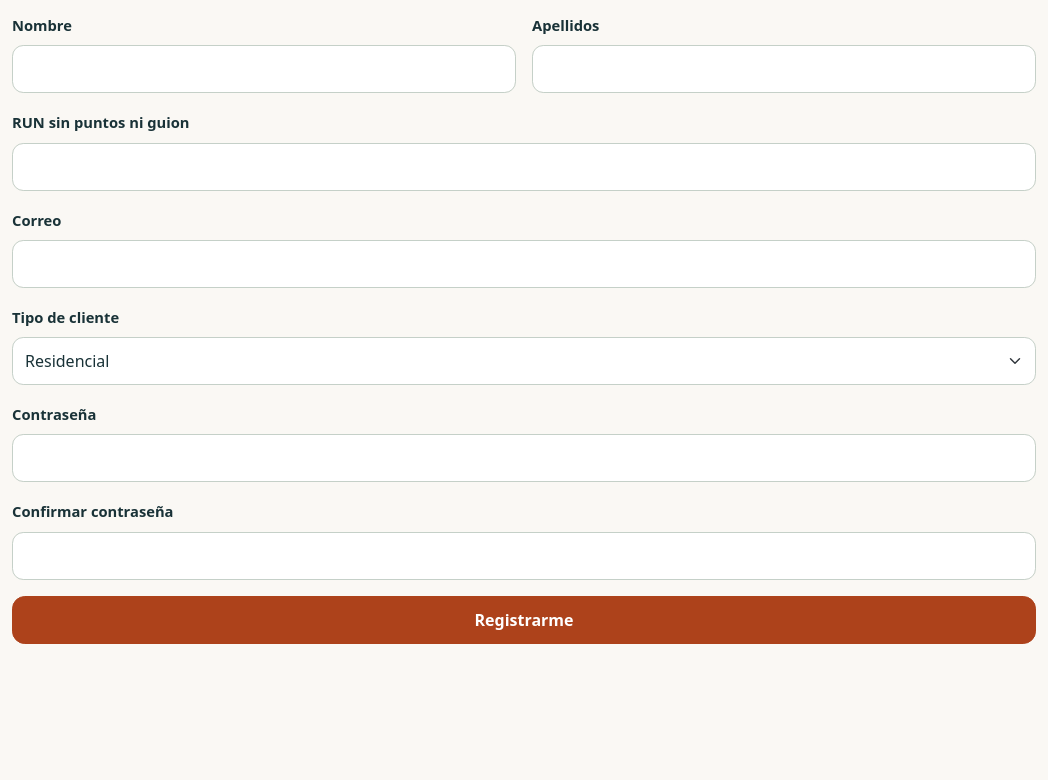
FormularioRegistro › explica todos los datos que deben corregirse y no avisa a la página
The image size is (1048, 780).
Click the button "Registrarme" at (524, 620), box [12,596,1036,644]
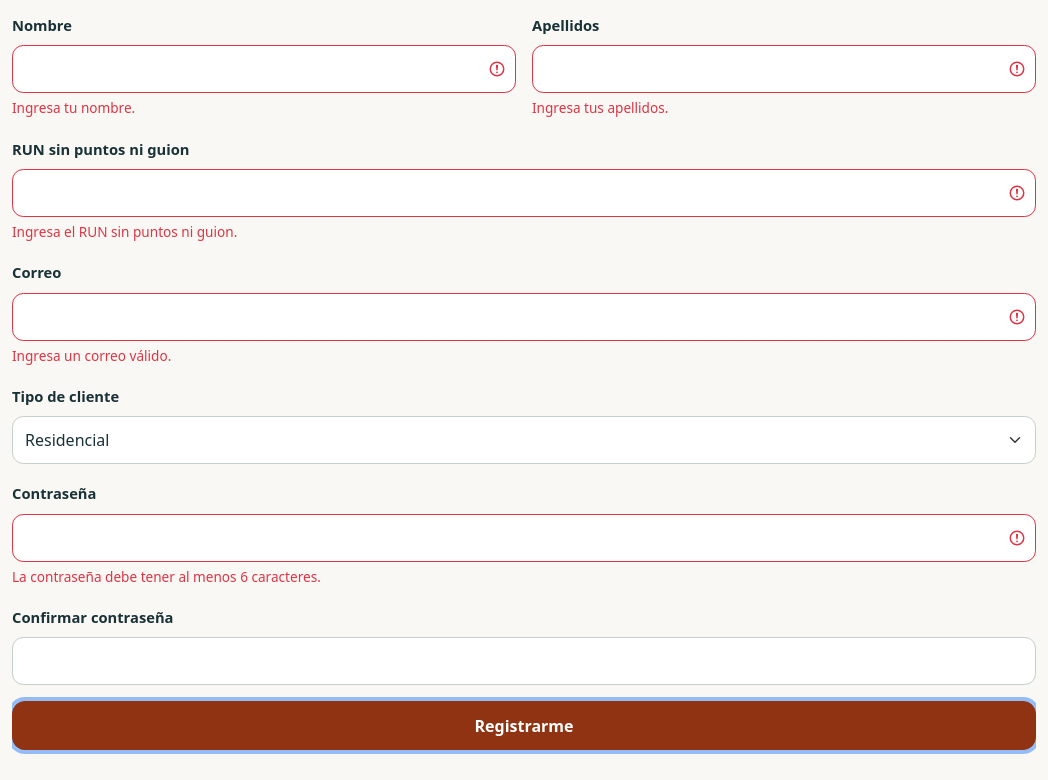
Check: the text "Ingresa el RUN sin puntos ni guion." is shown, box [12,222,237,241]
Check: the text "Ingresa un correo válido." is shown, box [12,346,171,365]
Check: the text "La contraseña debe tener al menos 6 caracteres." is shown, box [12,567,321,586]
